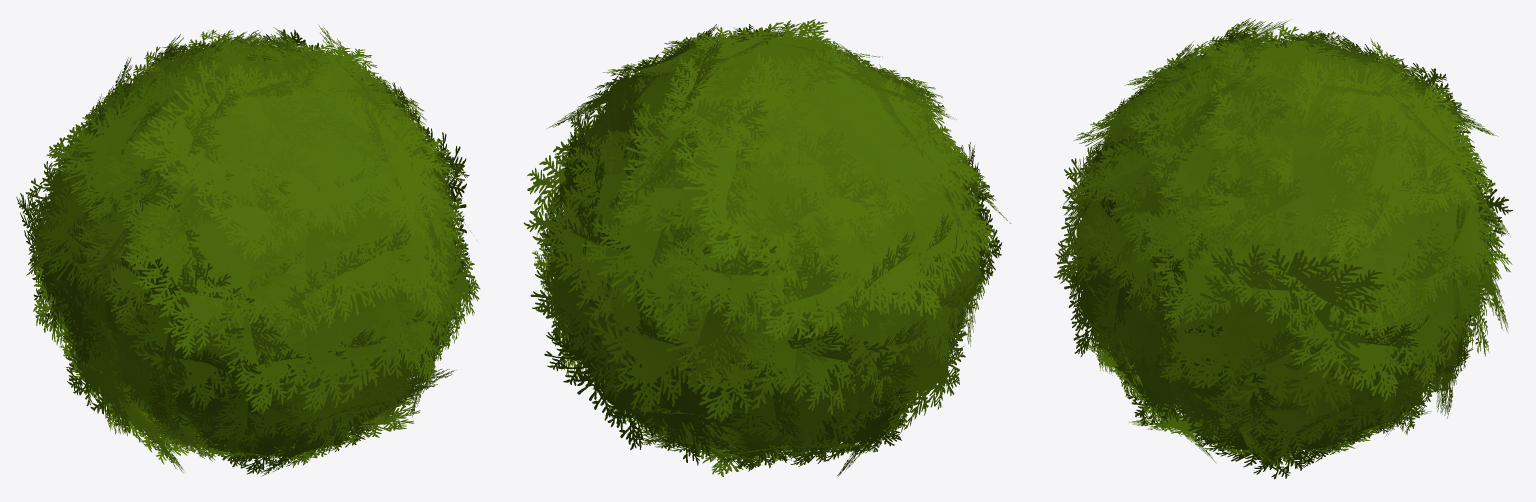
The model's file is moita_e.gltf.
The picture shows the model from 3 angles, left to right: view 1: azimuth 30°, elevation 25°; view 2: azimuth 150°, elevation 25°; view 3: azimuth 270°, elevation 25°; orthographic projection. The views are drawn at different scales.
Parts seen in each view (by area): view 1: moita_e; view 2: moita_e; view 3: moita_e.
Boxes of the visible parts, x1,y1,x2,y2 form: moita_e: (16,24,480,476); moita_e: (523,19,1010,477); moita_e: (1054,18,1512,479).
Size of the model in its own units: 1.33 by 1.3 by 1.35.
2 materials, 1 textured.
